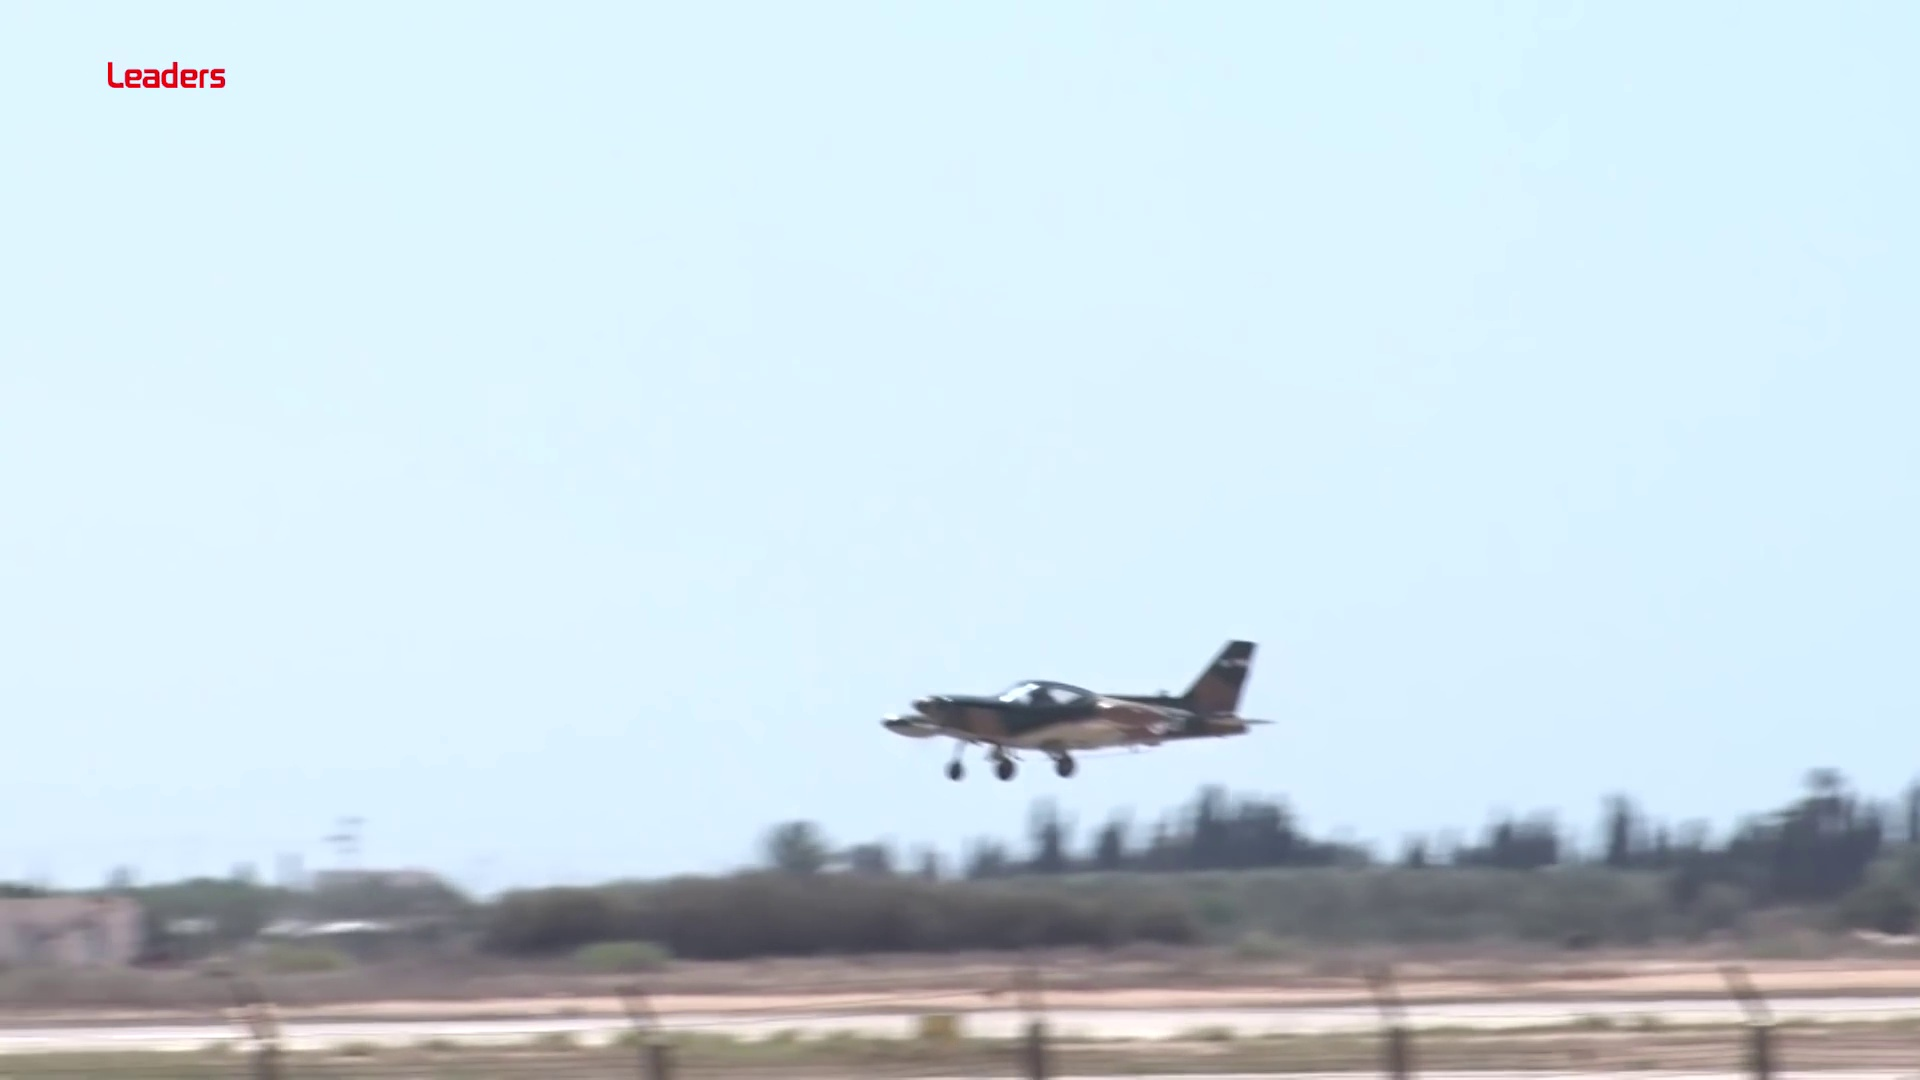Airplane: (880, 633, 1265, 775)
